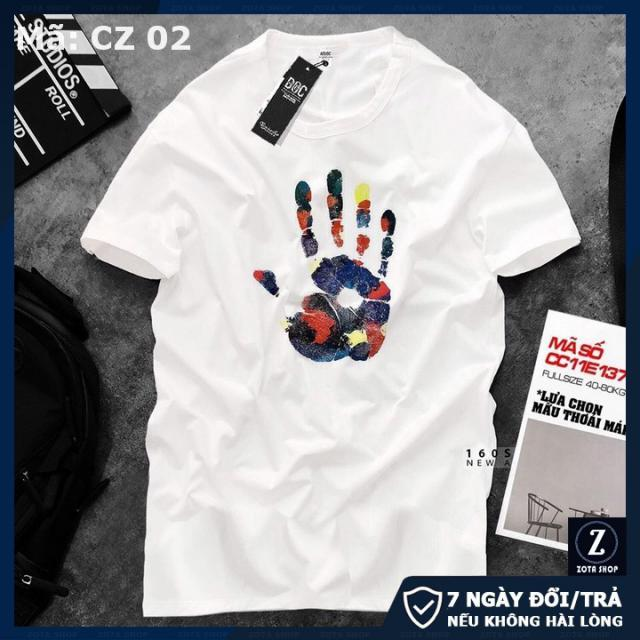Shirt: (78, 23, 584, 618)
